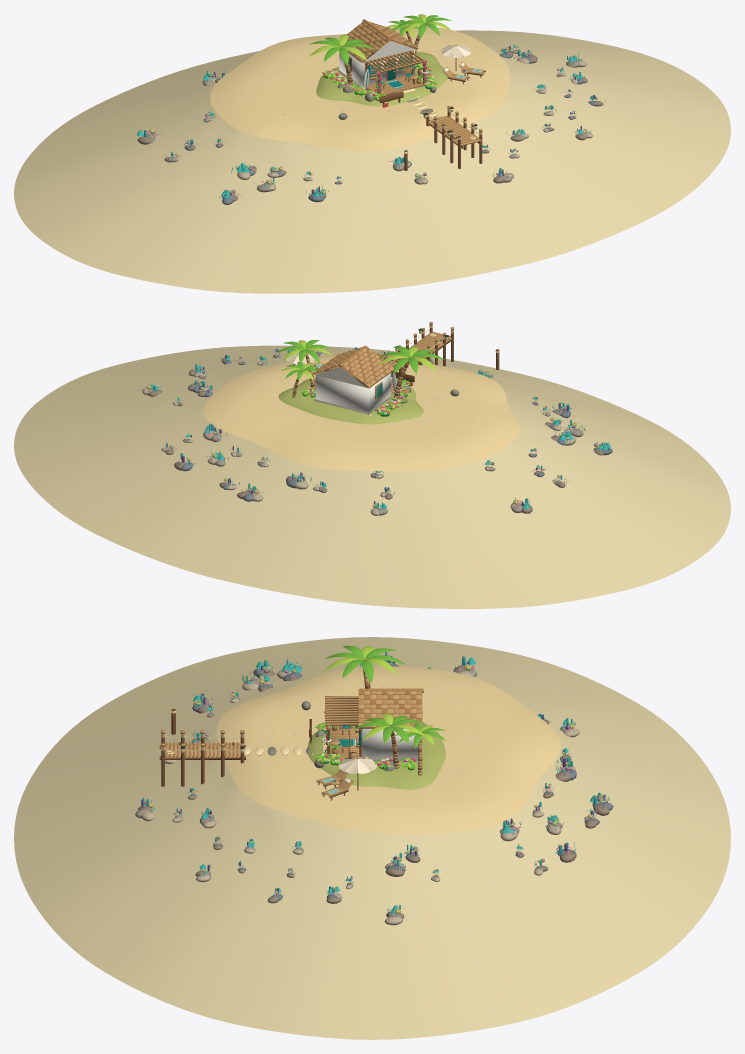
Rendered from atoll_world.glb.
3 renders of one model, top to bottom at view 1: azimuth 30°, elevation 25°; view 2: azimuth 150°, elevation 25°; view 3: azimuth 270°, elevation 25°, orthographic. The views are drawn at different scales.
Parts seen in each view (by area): view 1: Submerged sand, Warm lagoon sand, Honey wood, Island ground, Palm leaf, Dark wood, Sun bleached plaster, Palm lime, Reef rock brown, Reef rock sandstone, Coral aqua, Reef rock (+4 smaller); view 2: Submerged sand, Warm lagoon sand, Island ground, Sun bleached plaster, Palm leaf, Reef rock sandstone, Honey wood, Reef rock brown, Dark wood, Palm lime, Reef rock slate, Coral aqua (+6 smaller); view 3: Submerged sand, Warm lagoon sand, Honey wood, Island ground, Palm leaf, Reef rock sandstone, Reef rock brown, Dark wood, Sun bleached plaster, Palm lime, Coral aqua, Reef rock slate (+4 smaller).
Part boxes in pixels (bbox=[...]): Submerged sand: bbox=[14, 30, 730, 293]; Warm lagoon sand: bbox=[210, 26, 509, 151]; Honey wood: bbox=[341, 23, 484, 146]; Island ground: bbox=[316, 52, 447, 106]; Palm leaf: bbox=[309, 15, 451, 101]; Dark wood: bbox=[344, 31, 485, 170]; Sun bleached plaster: bbox=[339, 41, 415, 85]; Palm lime: bbox=[309, 14, 451, 98]; Reef rock brown: bbox=[137, 50, 603, 201]; Reef rock sandstone: bbox=[152, 49, 593, 191]; Coral aqua: bbox=[137, 45, 598, 198]; Reef rock: bbox=[146, 50, 588, 192]; Submerged sand: bbox=[14, 345, 730, 608]; Warm lagoon sand: bbox=[203, 354, 519, 470]; Island ground: bbox=[278, 377, 423, 424]; Sun bleached plaster: bbox=[315, 367, 391, 412]; Palm leaf: bbox=[276, 340, 444, 416]; Reef rock sandstone: bbox=[142, 349, 576, 515]; Honey wood: bbox=[287, 322, 454, 399]; Reef rock brown: bbox=[149, 352, 603, 513]; Dark wood: bbox=[293, 324, 499, 396]; Palm lime: bbox=[280, 340, 436, 413]; Reef rock slate: bbox=[181, 352, 612, 501]; Coral aqua: bbox=[150, 345, 610, 508]; Submerged sand: bbox=[14, 637, 730, 1039]; Warm lagoon sand: bbox=[216, 666, 560, 833]; Honey wood: bbox=[160, 659, 422, 796]; Island ground: bbox=[307, 723, 445, 789]; Palm leaf: bbox=[314, 645, 445, 770]; Reef rock sandstone: bbox=[141, 663, 607, 925]; Reef rock brown: bbox=[138, 660, 609, 918]; Dark wood: bbox=[159, 670, 422, 800]; Sun bleached plaster: bbox=[362, 728, 418, 759]; Palm lime: bbox=[314, 646, 434, 767]; Coral aqua: bbox=[141, 657, 600, 914]; Reef rock slate: bbox=[190, 663, 613, 899].
Bounding box in the file's own units: 71.77 × 13.55 × 54.09.
